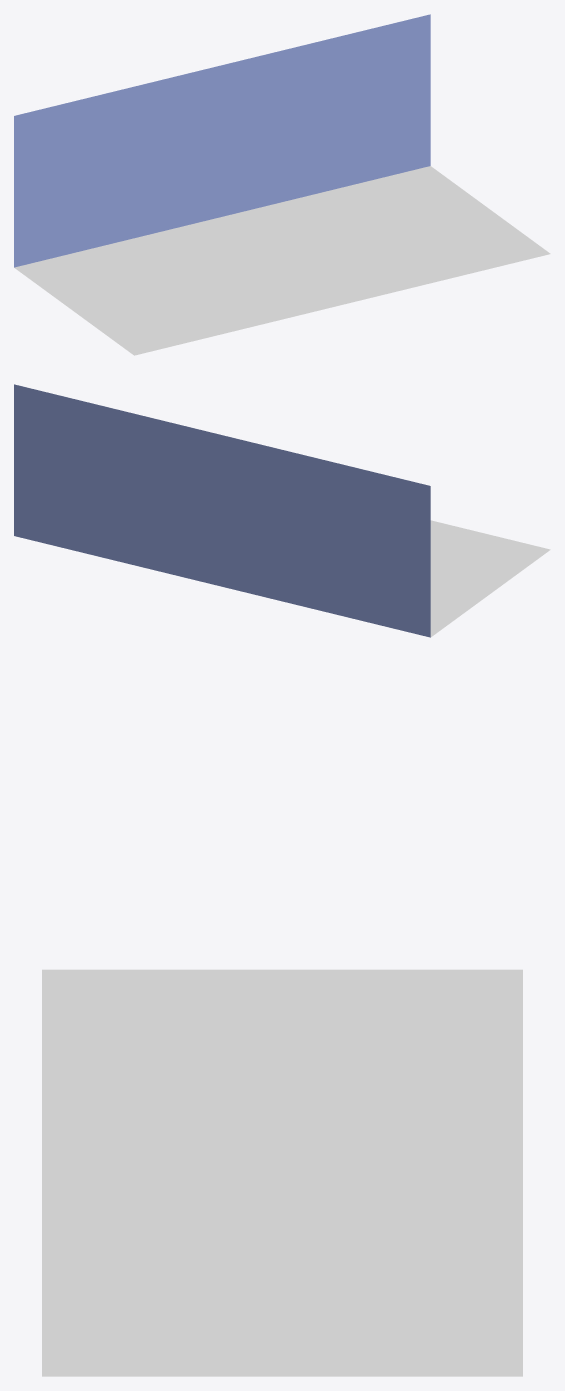
Rendered from Test textuers.fbx.
3 renders of one model, top to bottom at view 1: azimuth 30°, elevation 25°; view 2: azimuth 150°, elevation 25°; view 3: azimuth 270°, elevation 25°, orthographic. The views are drawn at different scales.
Parts seen in each view (by area): view 1: Plane; view 2: Plane; view 3: Plane.
Part boxes in pixels (box(x1,y1,x2,y2)): Plane: box(14, 14, 550, 355); Plane: box(14, 384, 550, 637); Plane: box(42, 969, 522, 1376).
Bounding box in the file's own units: 4600 × 1600 × 2300.
